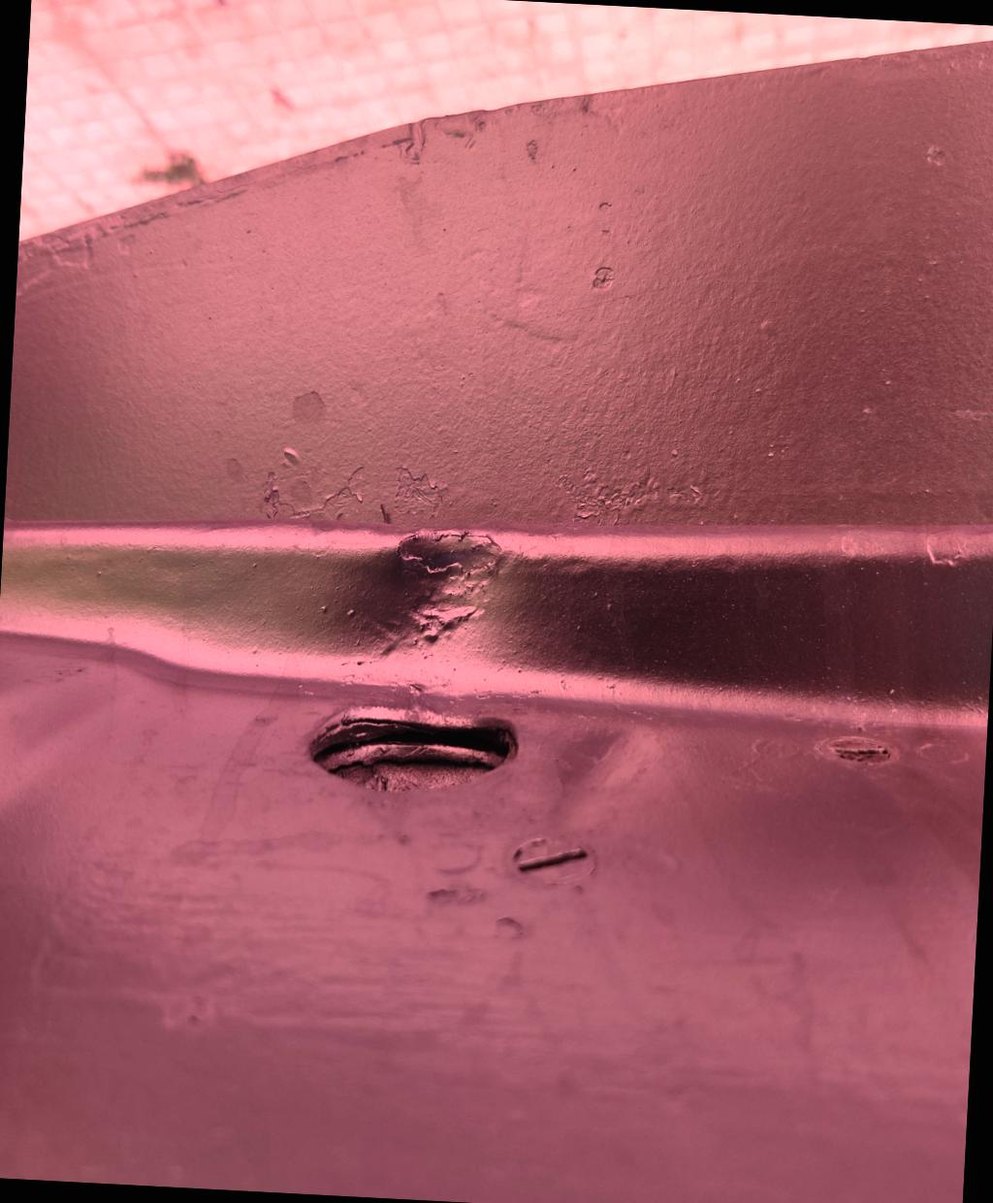dent: (323, 474, 547, 706)
